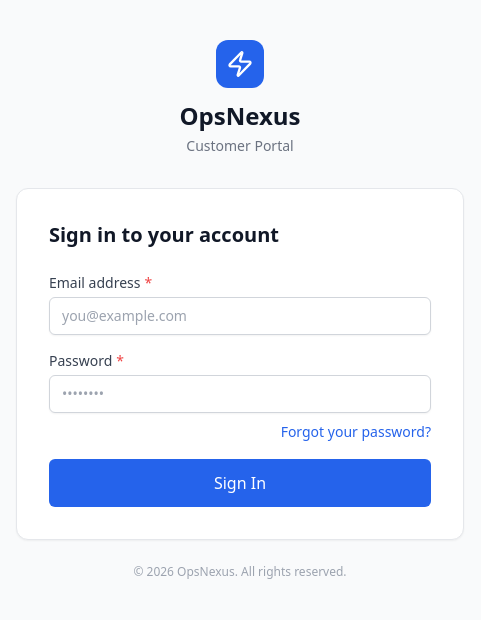
it: LoginPage › shows email validation error on submit with empty email
Click the button "Sign In" at (240, 483), box [49,459,431,507]
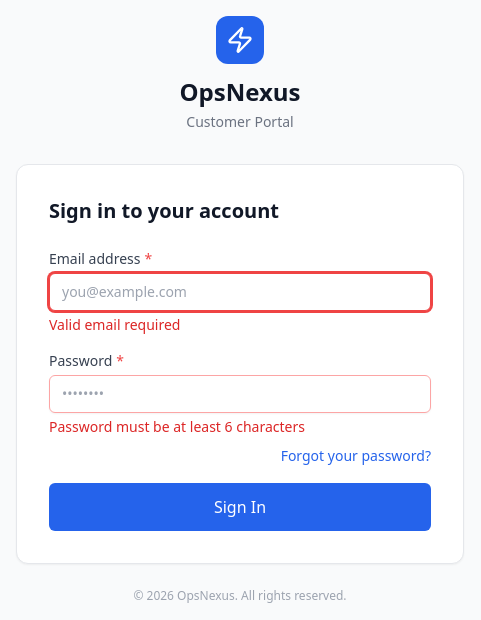
Now the text "Valid email required" is shown, box [49,315,180,334]
